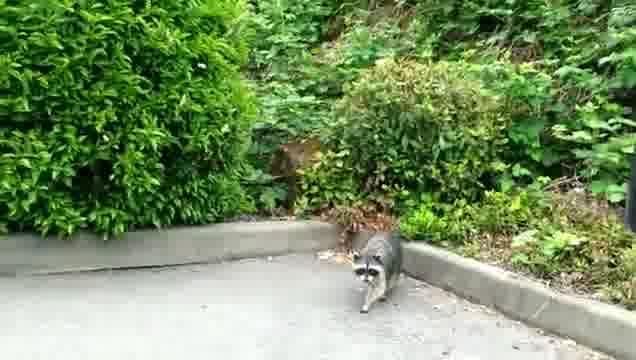raccoon: (348, 231, 409, 318)
